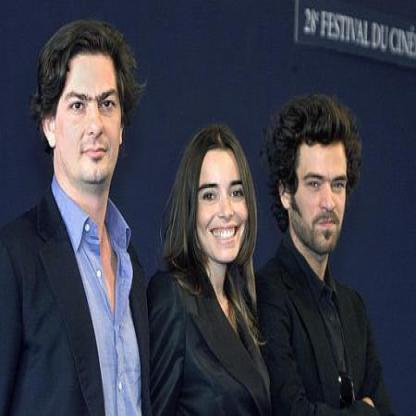face: (51, 28, 129, 188), (291, 115, 354, 258), (191, 130, 253, 268)
